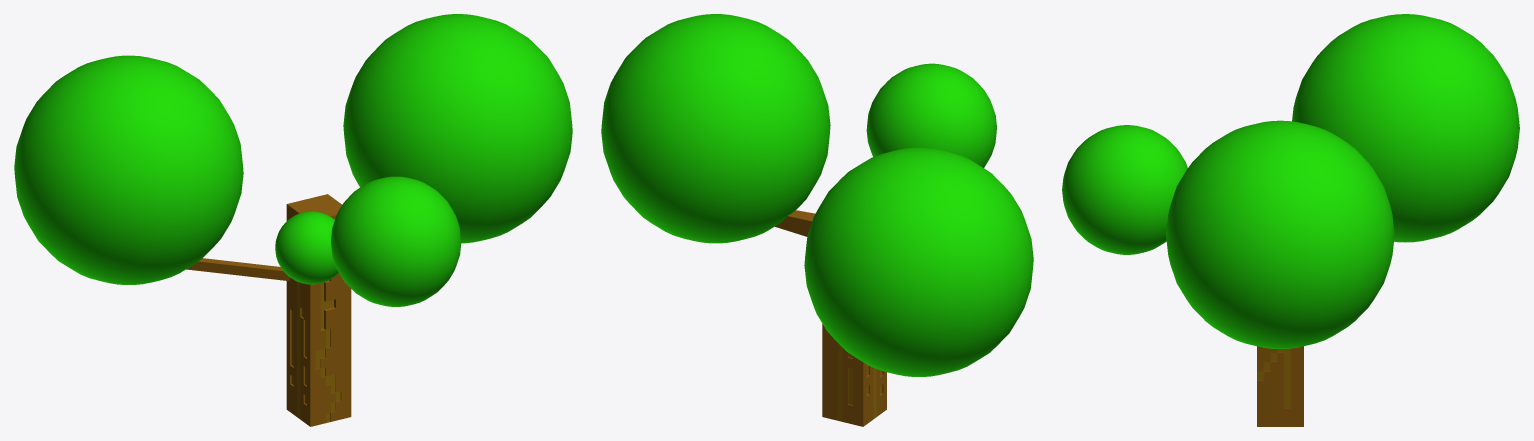
File: PixelWood.fbx
The picture shows the model from 3 angles, left to right: view 1: azimuth 30°, elevation 25°; view 2: azimuth 150°, elevation 25°; view 3: azimuth 270°, elevation 25°; orthographic projection.
Visible parts, largest first — view 1: Sphere.001, Sphere, Sphere.002, Cube, Sphere.003; view 2: Sphere.001, Sphere, Sphere.002, Cube; view 3: Sphere, Sphere.001, Sphere.002, Cube.
Boxes of the visible parts, x1,y1,x2,y2 form: Sphere.001: [14, 55, 243, 284]; Sphere: [343, 14, 572, 243]; Sphere.002: [331, 176, 461, 306]; Cube: [186, 194, 351, 426]; Sphere.003: [275, 211, 338, 284]; Sphere.001: [804, 147, 1033, 376]; Sphere: [601, 14, 830, 243]; Sphere.002: [866, 63, 996, 167]; Cube: [775, 210, 886, 426]; Sphere: [1166, 120, 1394, 349]; Sphere.001: [1292, 14, 1519, 242]; Sphere.002: [1062, 125, 1187, 254]; Cube: [1257, 346, 1303, 426].
Bounding box in the file's own units: 55579 × 40510 × 47608.
